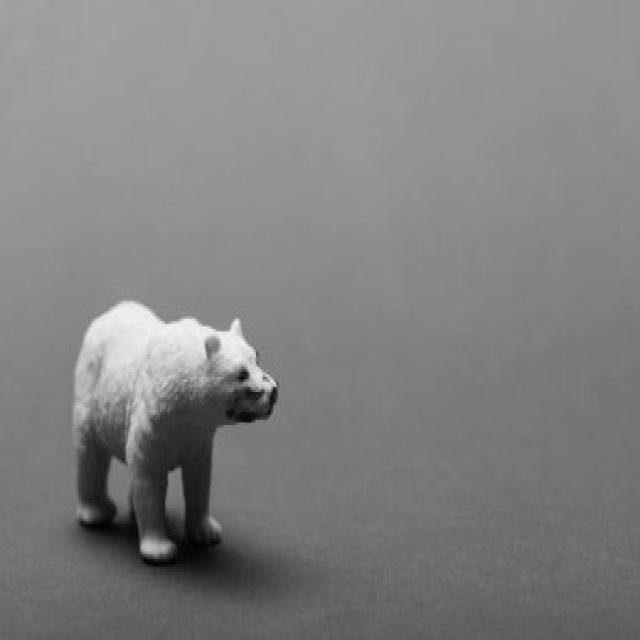Animal: (75, 302, 279, 562)
